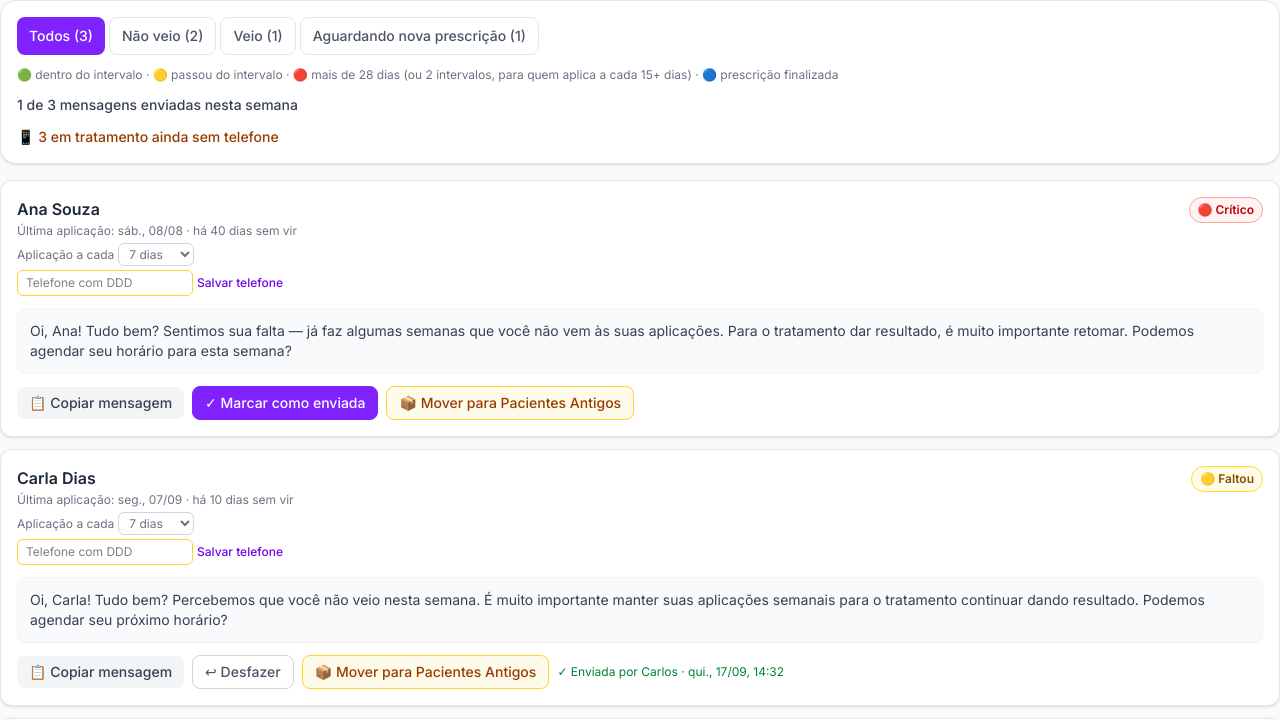
EmTratamento › desfaz a marcação
Expected: the text "✓ Enviada por Carlos · qui., 17/09, 14:32" is shown, [557,664,784,680]
Click the button "↩ Desfazer". click: (243, 672)
box: [192,655,294,689]
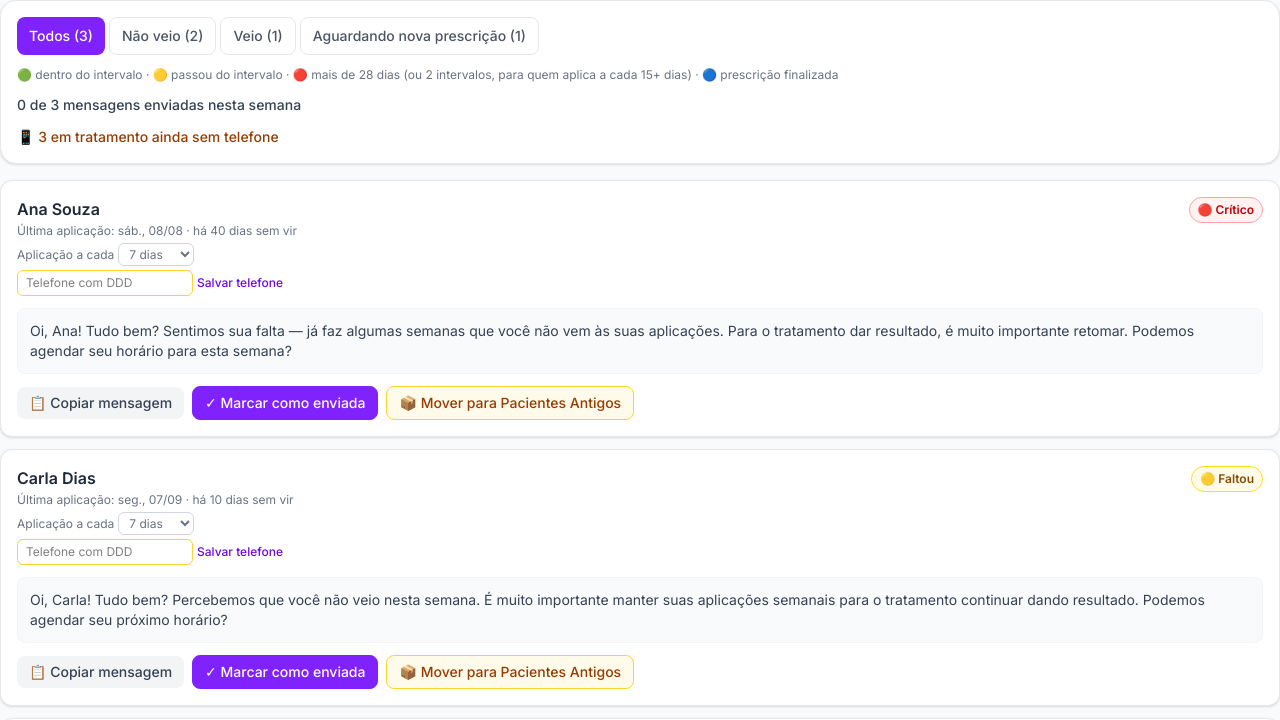
Now the text "Enviada por" is gone
